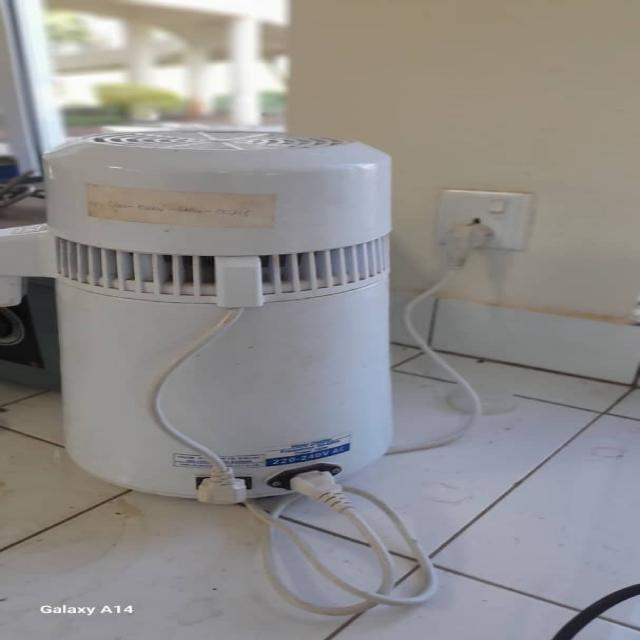Distilled Water Maker: (34, 127, 418, 511)
